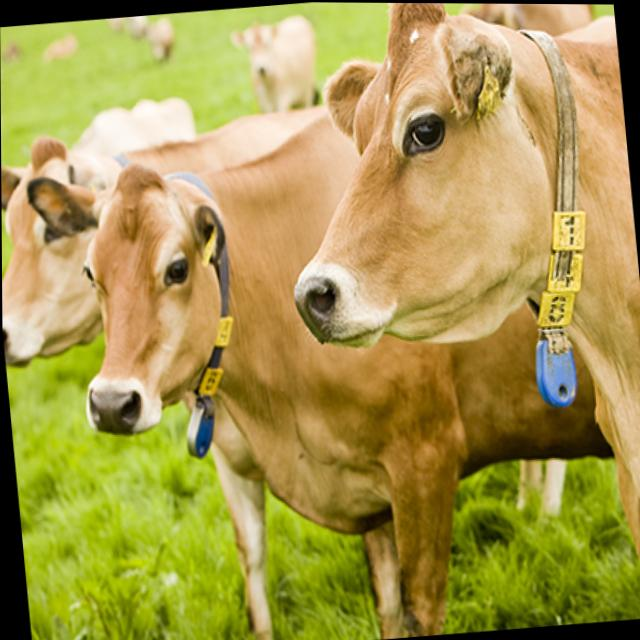cowFace: (256, 1, 587, 361), (21, 145, 252, 451)
